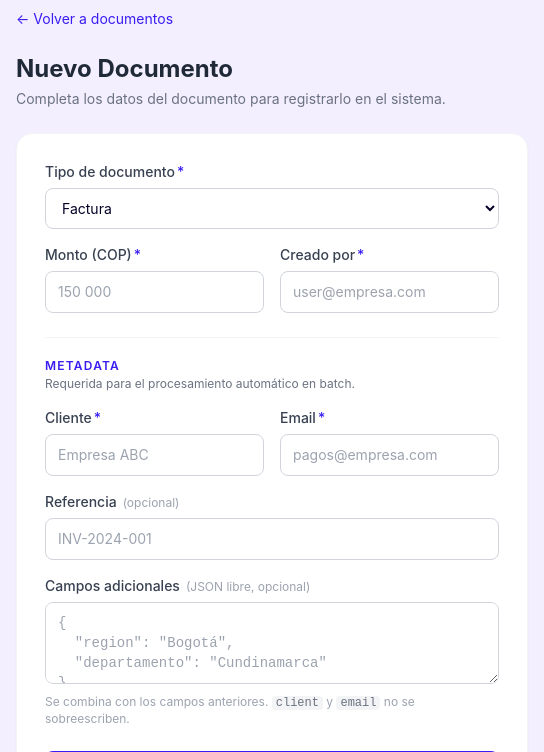
DocumentCreatePage › disables submit button while loading
Select "Factura" in the dropdown at (272, 208), box [45, 188, 499, 229]
Type "5000" into the number field with placeholder "150 000" at (154, 292), box [45, 271, 264, 313]
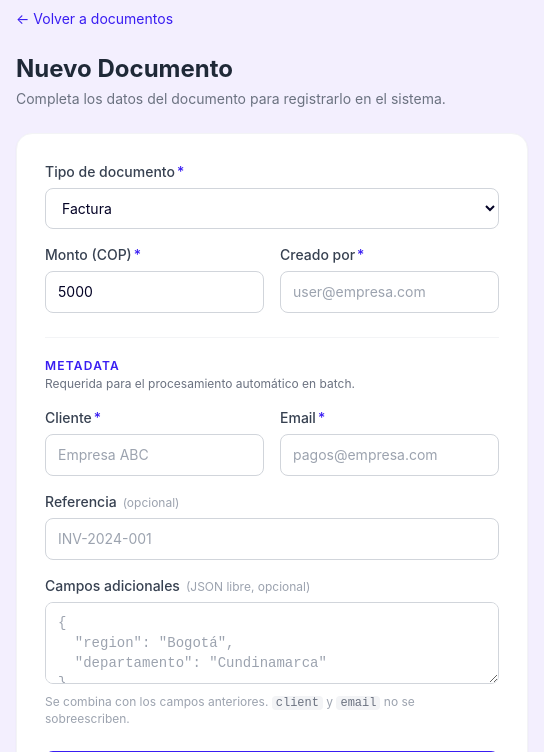
Type "user@test.com" into the field with placeholder "user@empresa.com" at (390, 292), box [280, 271, 499, 313]
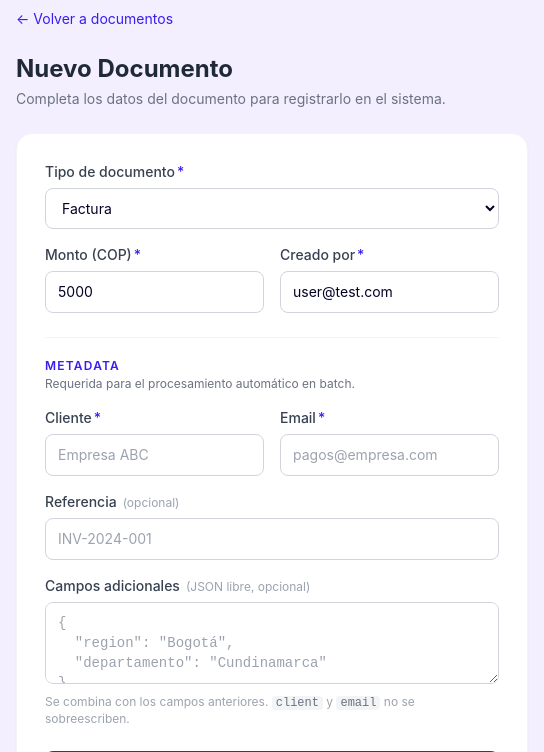
Type "ClientX" into the field with placeholder "Empresa ABC" at (154, 455), box [45, 434, 264, 476]
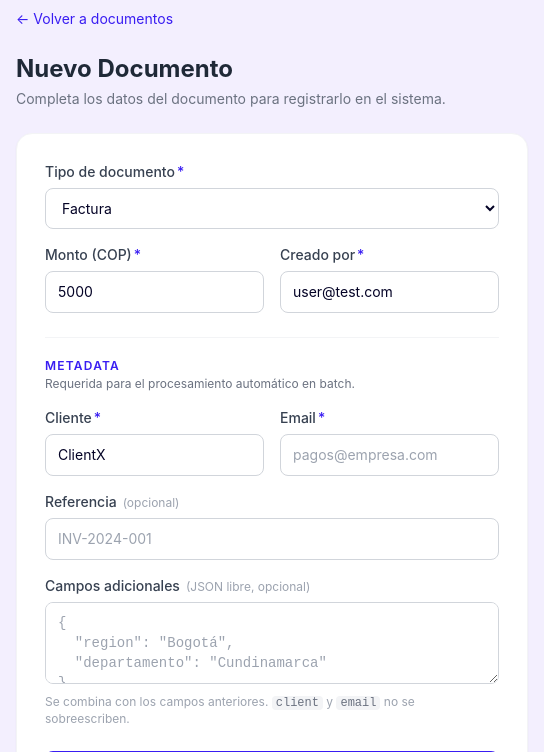
Type "cx@test.com" into the field with placeholder "pagos@empresa.com" at (390, 455), box [280, 434, 499, 476]
(page scrolled)
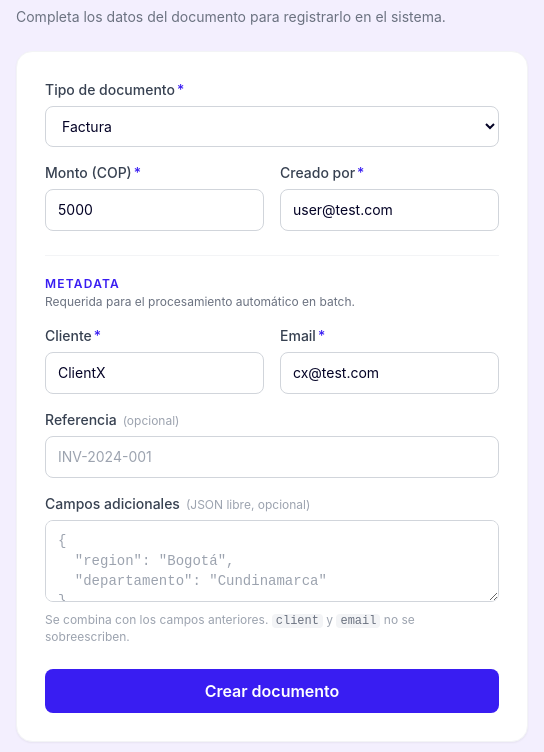
Click the button "Crear documento" at (272, 691), box [45, 669, 499, 713]
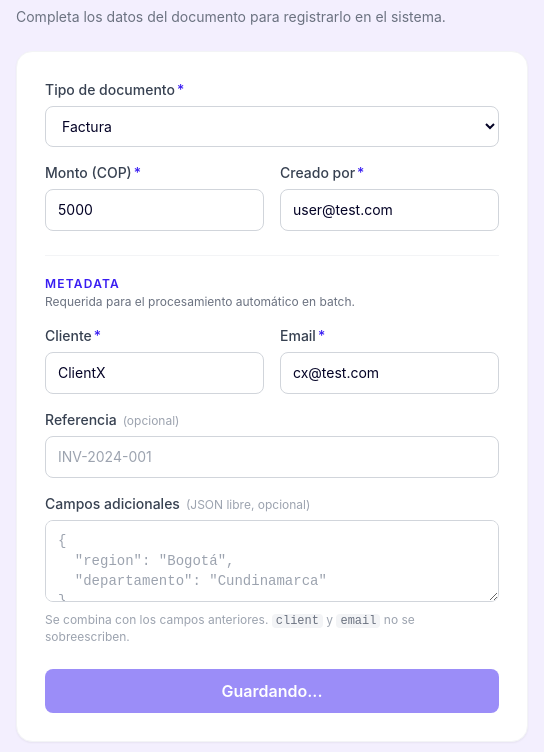
expect the button "Guardando..." is disabled: met, box [45, 669, 499, 713]
